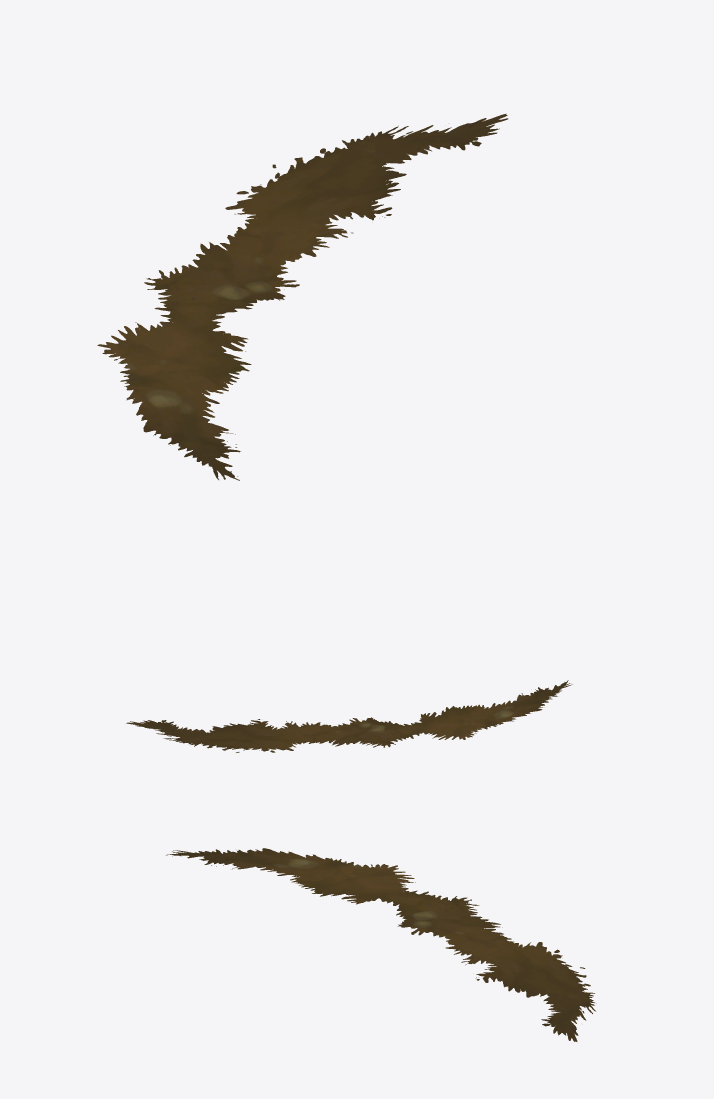
The model's file is road_curve_rock1a.fbx.
3 renders of one model, top to bottom at view 1: azimuth 30°, elevation 25°; view 2: azimuth 150°, elevation 25°; view 3: azimuth 270°, elevation 25°, orthographic. The views are drawn at different scales.
Parts seen in each view (by area): view 1: obj0.070; view 2: obj0.070; view 3: obj0.070.
Part boxes in pixels (bbox=[...]): obj0.070: bbox=[97, 113, 508, 480]; obj0.070: bbox=[126, 680, 572, 752]; obj0.070: bbox=[166, 848, 596, 1041].
Size of the model in its own units: 19.06 by 2.61e-06 by 19.7.
